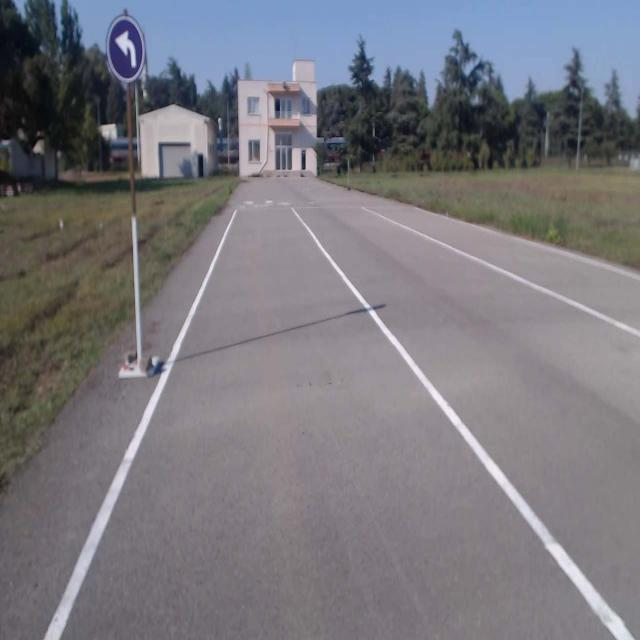sol: (106, 15, 145, 82)
